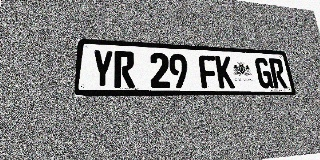2: (150, 52, 170, 88)
9: (169, 53, 189, 88)
F: (198, 55, 218, 88)
G: (254, 58, 274, 88)
K: (215, 56, 235, 88)
R: (114, 51, 135, 88), (268, 58, 288, 88)
Y: (91, 50, 113, 88)
